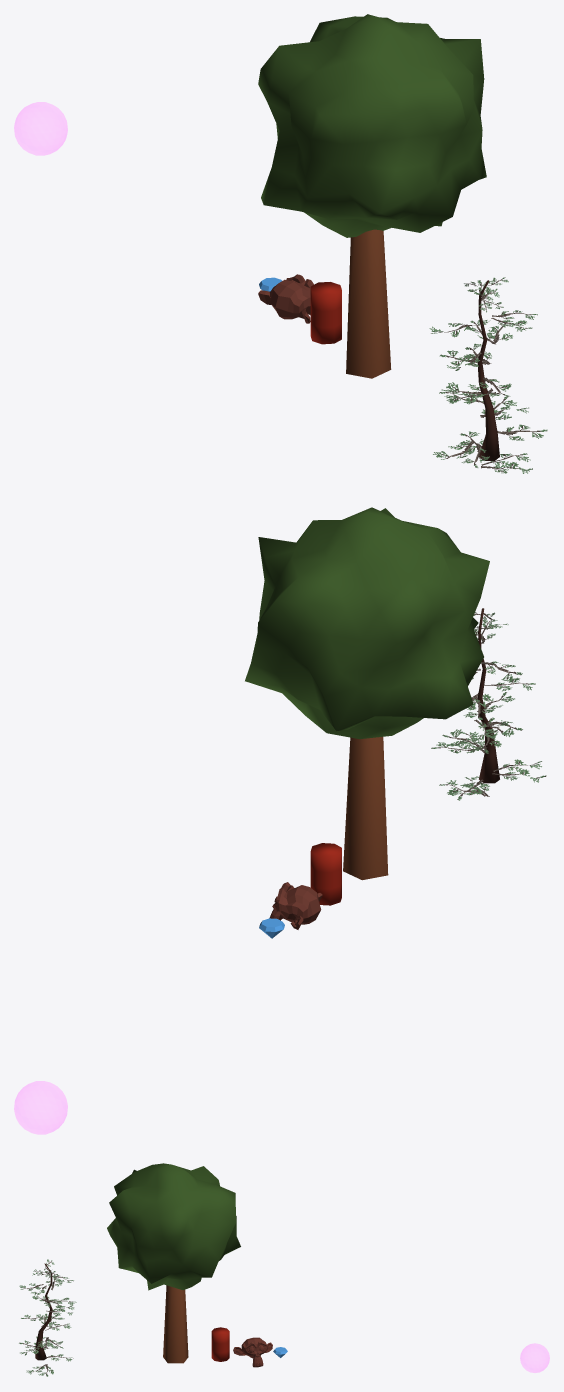
The picture shows the model from 3 angles, top to bottom: view 1: azimuth 30°, elevation 25°; view 2: azimuth 150°, elevation 25°; view 3: azimuth 270°, elevation 25°; orthographic projection. The views are drawn at different scales.
Parts seen in each view (by area): view 1: Icosphere, Plane, Icosphere.001, Cylinder, Suzanne, Cylinder.001; view 2: Icosphere, Plane, Icosphere.001, Cylinder, Suzanne, Cylinder.001; view 3: Icosphere, Plane, Icosphere.001, Suzanne, Cylinder, Cylinder.001.
Part boxes in pixels (bbox=[...]): Icosphere: bbox=[258, 14, 486, 378]; Plane: bbox=[429, 277, 547, 473]; Icosphere.001: bbox=[14, 102, 67, 155]; Cylinder: bbox=[310, 282, 341, 344]; Suzanne: bbox=[258, 274, 313, 323]; Cylinder.001: bbox=[477, 280, 499, 460]; Icosphere: bbox=[245, 507, 489, 880]; Plane: bbox=[431, 612, 546, 800]; Icosphere.001: bbox=[14, 1081, 67, 1134]; Cylinder: bbox=[310, 843, 341, 905]; Suzanne: bbox=[269, 882, 322, 929]; Cylinder.001: bbox=[477, 608, 499, 783]; Icosphere: bbox=[107, 1163, 240, 1363]; Plane: bbox=[19, 1259, 76, 1376]; Icosphere.001: bbox=[520, 1343, 549, 1372]; Suzanne: bbox=[233, 1337, 272, 1367]; Cylinder: bbox=[211, 1327, 229, 1361]; Cylinder.001: bbox=[35, 1263, 52, 1360].
Bounding box in the file's own units: 9.19 × 15.34 × 35.81.
Materials: 8 (1 with a texture image).
